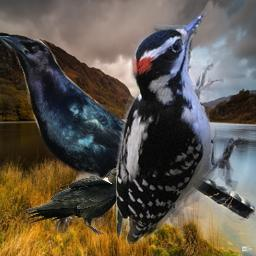Crow: (0, 36, 255, 233), (22, 166, 137, 237)
Woodpecker: (116, 11, 242, 245)
